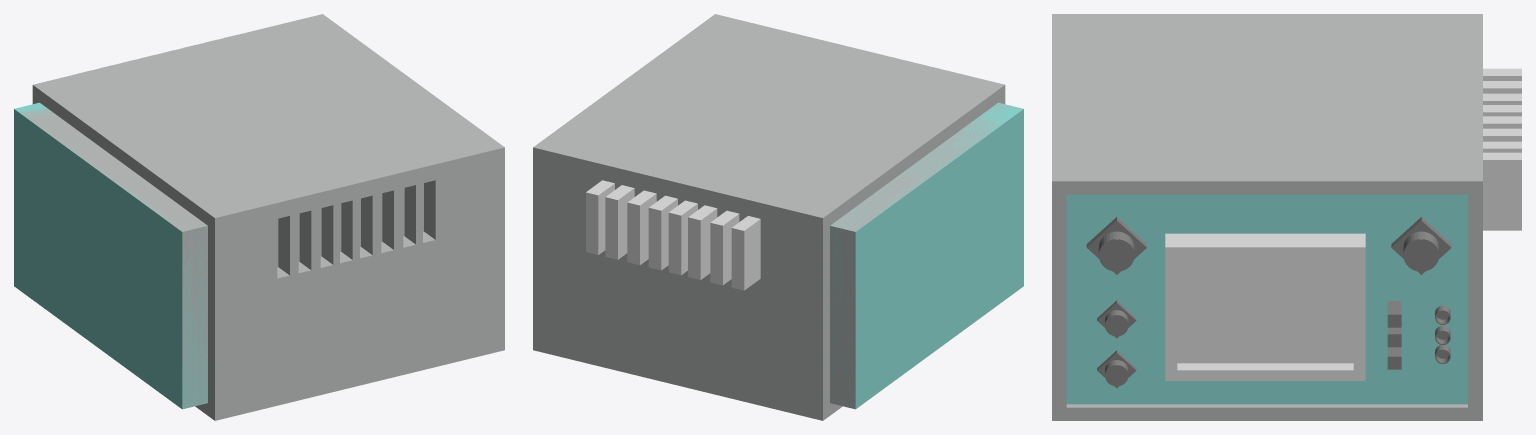
Rendered from oscilloscope.fbx.
The picture shows the model from 3 angles, left to right: view 1: azimuth 30°, elevation 25°; view 2: azimuth 150°, elevation 25°; view 3: azimuth 270°, elevation 25°; orthographic projection. The views are drawn at different scales.
Parts seen in each view (by area): view 1: Cylinder.003; view 2: Cylinder.003, Cube.006, Cube.008, Cube.011, Cube.012, Cube.007, Cube.013, Cube.009, Cube.010; view 3: Cylinder.003, Cube.001, Cube.010, Cube.012, Cube.006, Cube.007, Cube.013, Cube.008, Cube.009, Cube.011.
Part boxes in pixels (bbox=[...]): Cylinder.003: bbox=[14, 14, 504, 420]; Cylinder.003: bbox=[533, 14, 1023, 420]; Cube.006: bbox=[731, 216, 760, 290]; Cube.008: bbox=[688, 205, 717, 279]; Cube.011: bbox=[605, 185, 634, 259]; Cube.012: bbox=[627, 190, 656, 265]; Cube.007: bbox=[710, 210, 739, 285]; Cube.013: bbox=[648, 195, 677, 270]; Cube.009: bbox=[668, 200, 697, 275]; Cube.010: bbox=[586, 180, 614, 254]; Cylinder.003: bbox=[1052, 14, 1482, 420]; Cube.001: bbox=[1165, 233, 1365, 380]; Cube.010: bbox=[1483, 152, 1521, 230]; Cube.012: bbox=[1483, 128, 1521, 141]; Cube.006: bbox=[1483, 68, 1521, 80]; Cube.007: bbox=[1483, 81, 1521, 93]; Cube.013: bbox=[1483, 116, 1521, 128]; Cube.008: bbox=[1483, 93, 1521, 104]; Cube.009: bbox=[1483, 105, 1521, 116]; Cube.011: bbox=[1483, 141, 1521, 152].
Bounding box in the file's own units: 344 × 200 × 355.
